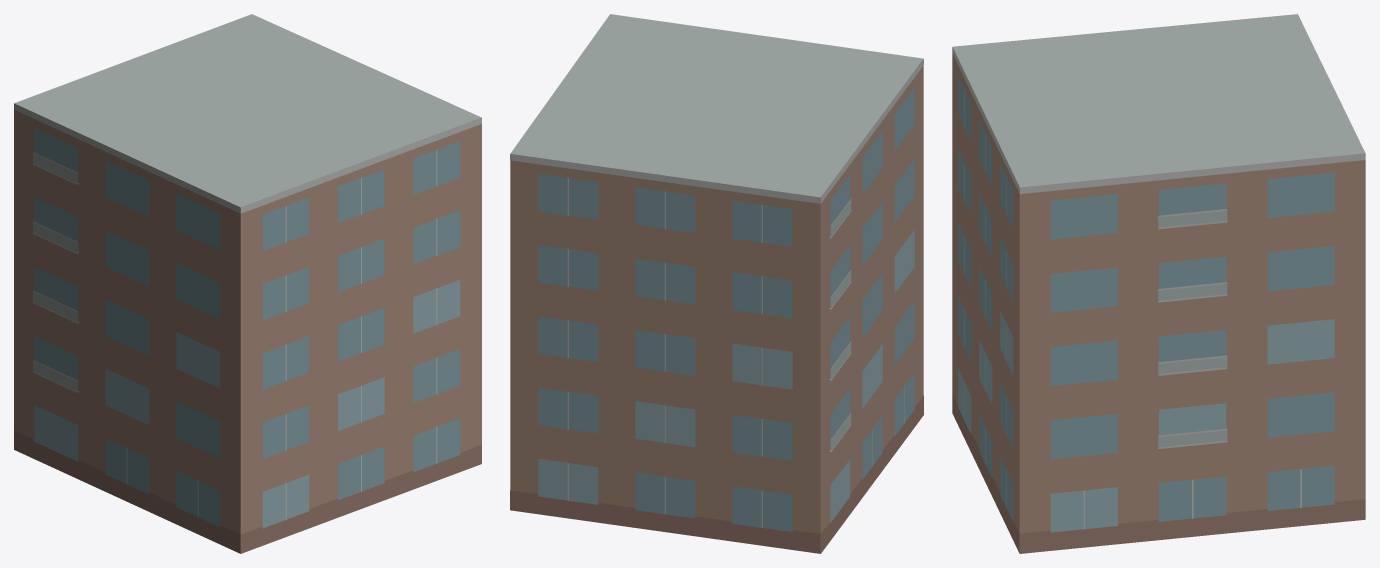
Rendered from survey-upis-32840497.glb.
3 renders of one model, left to right at view 1: azimuth 30°, elevation 25°; view 2: azimuth 150°, elevation 25°; view 3: azimuth 270°, elevation 25°, orthographic. The views are drawn at different scales.
Parts seen in each view (by area): view 1: survey-upis-32840497.tmp; view 2: survey-upis-32840497.tmp; view 3: survey-upis-32840497.tmp.
Part boxes in pixels (left/top/right/bottom): survey-upis-32840497.tmp: left=14, top=14, right=481, bottom=553; survey-upis-32840497.tmp: left=510, top=14, right=923, bottom=553; survey-upis-32840497.tmp: left=952, top=14, right=1365, bottom=553.
Size of the model in its own units: 13.62 by 13.4 by 13.71.
